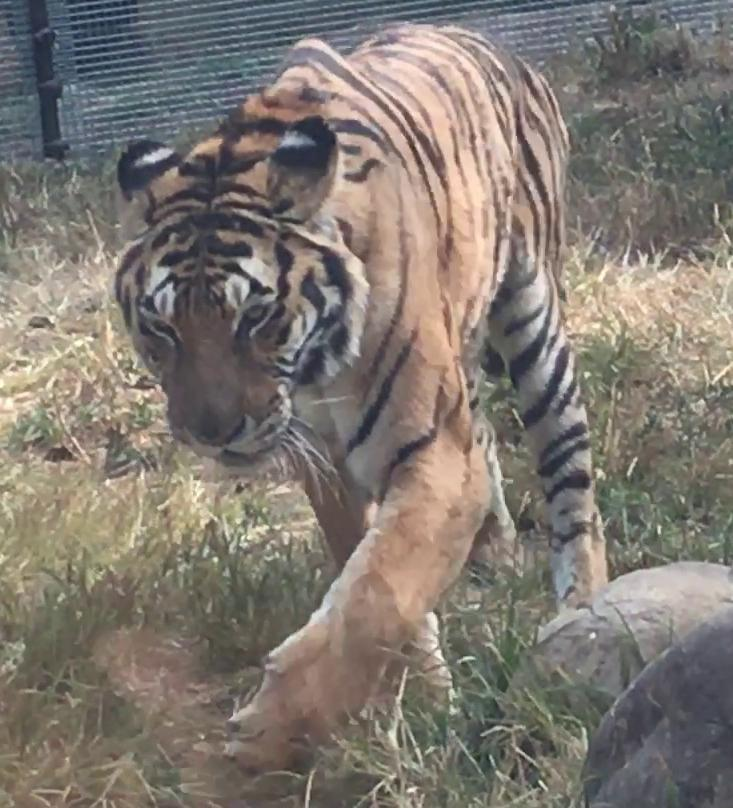tiger: (115, 24, 606, 770)
